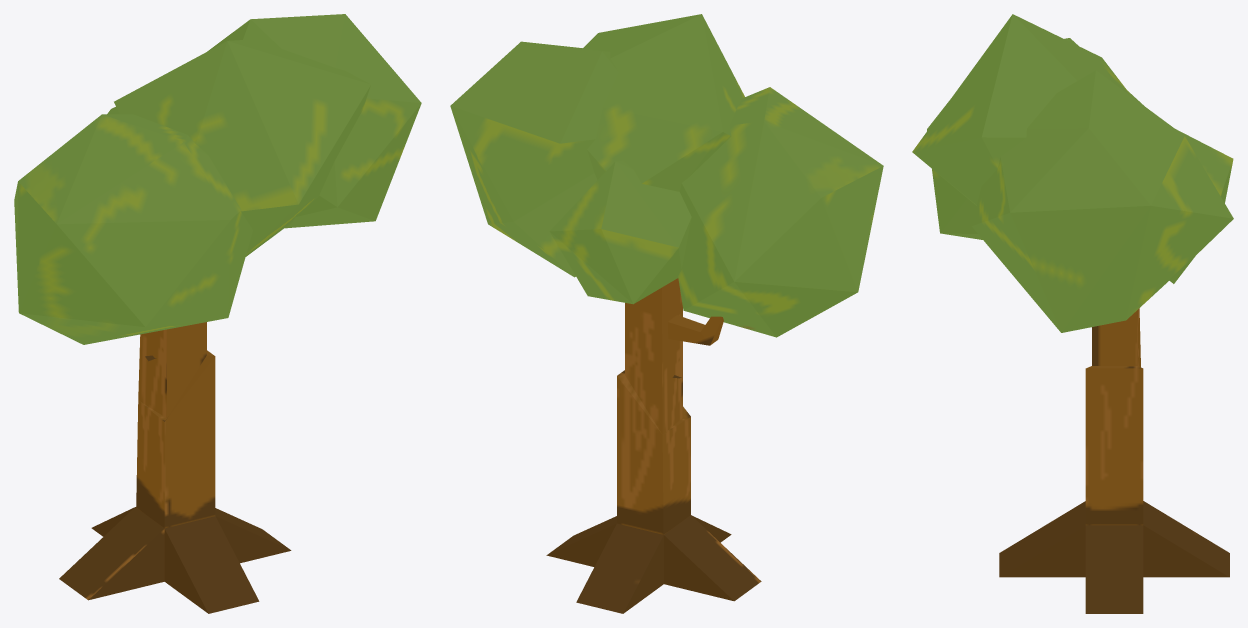
Rendered from tree_chesburg_5.glb.
3 views of the same model, side by side, from view 1: azimuth 30°, elevation 25°; view 2: azimuth 150°, elevation 25°; view 3: azimuth 270°, elevation 25° (orthographic). The views are drawn at different scales.
Visible parts, largest first — view 1: leaves.004; view 2: leaves.004; view 3: leaves.004.
Part boxes in pixels (<box>): leaves.004: <box>14,14,421,613</box>; leaves.004: <box>450,14,883,613</box>; leaves.004: <box>912,14,1233,613</box>.
Size of the model in its own units: 7.68 by 10.55 by 5.58.
